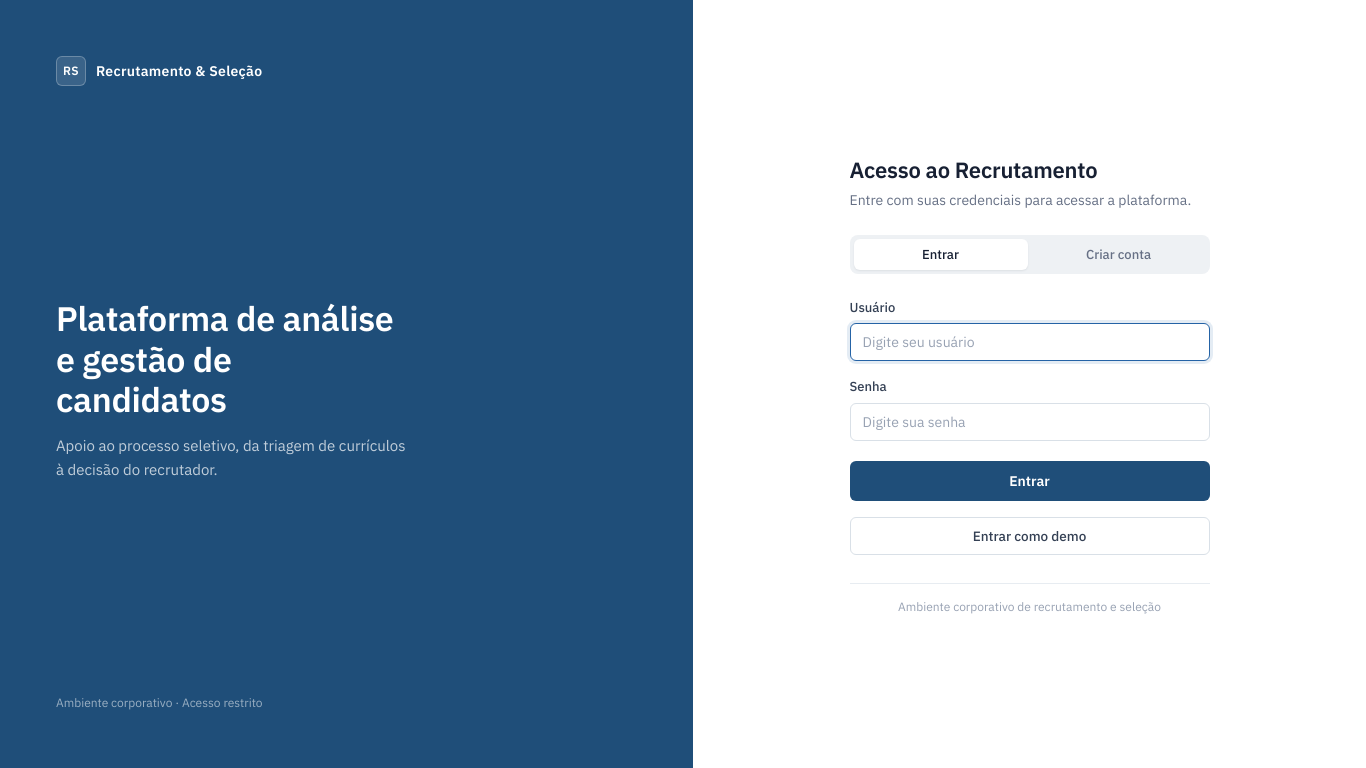
Scenario: App — autenticação por usuário/senha + JWT › mostra a tela de login e envia as credenciais para /api/auth/login
This screenshot has width=1366, height=768.
Check: the password field labelled "Senha" is shown, box [850,402,1210,440]
Type "admin" into the field labelled "Usuário" at (1030, 342), box [850,323,1210,361]
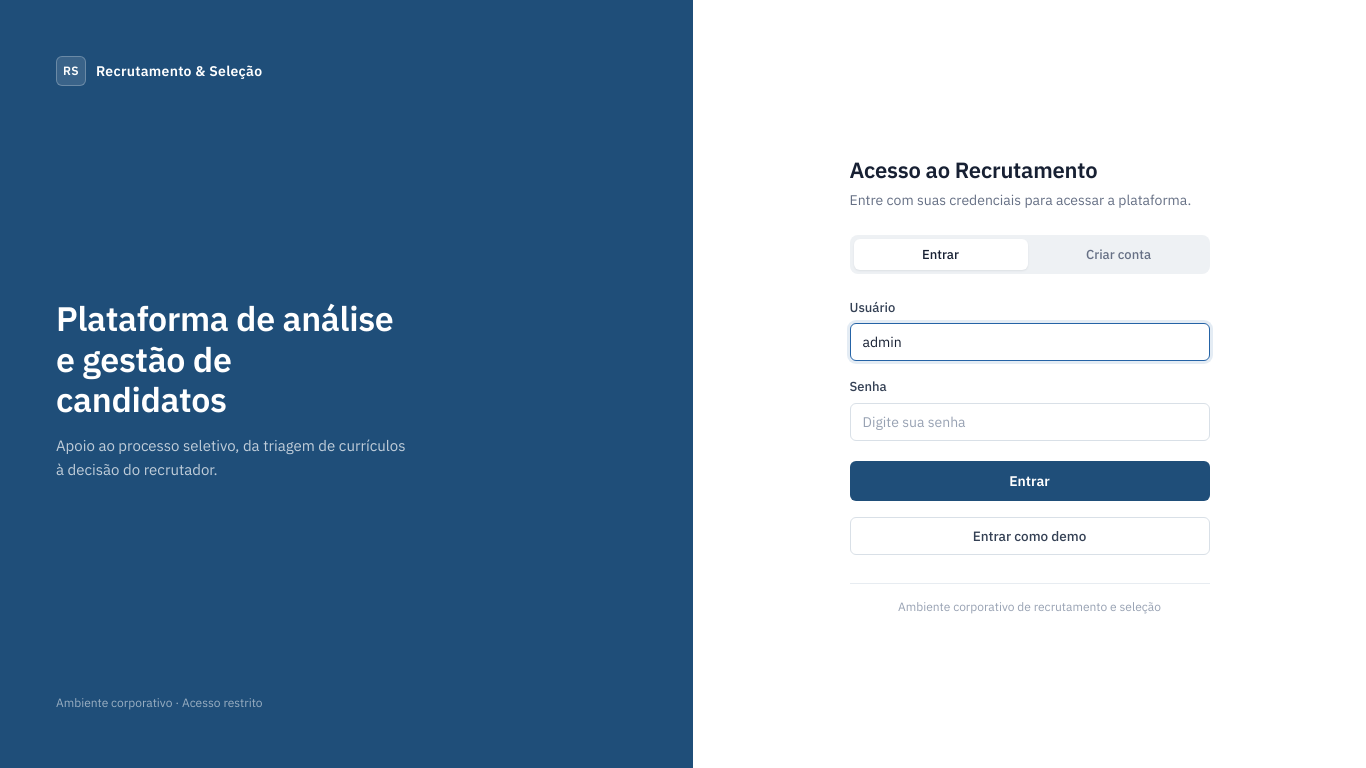
Type "SenhaForte@123" into the password field labelled "Senha" at (1030, 422), box [850,402,1210,440]
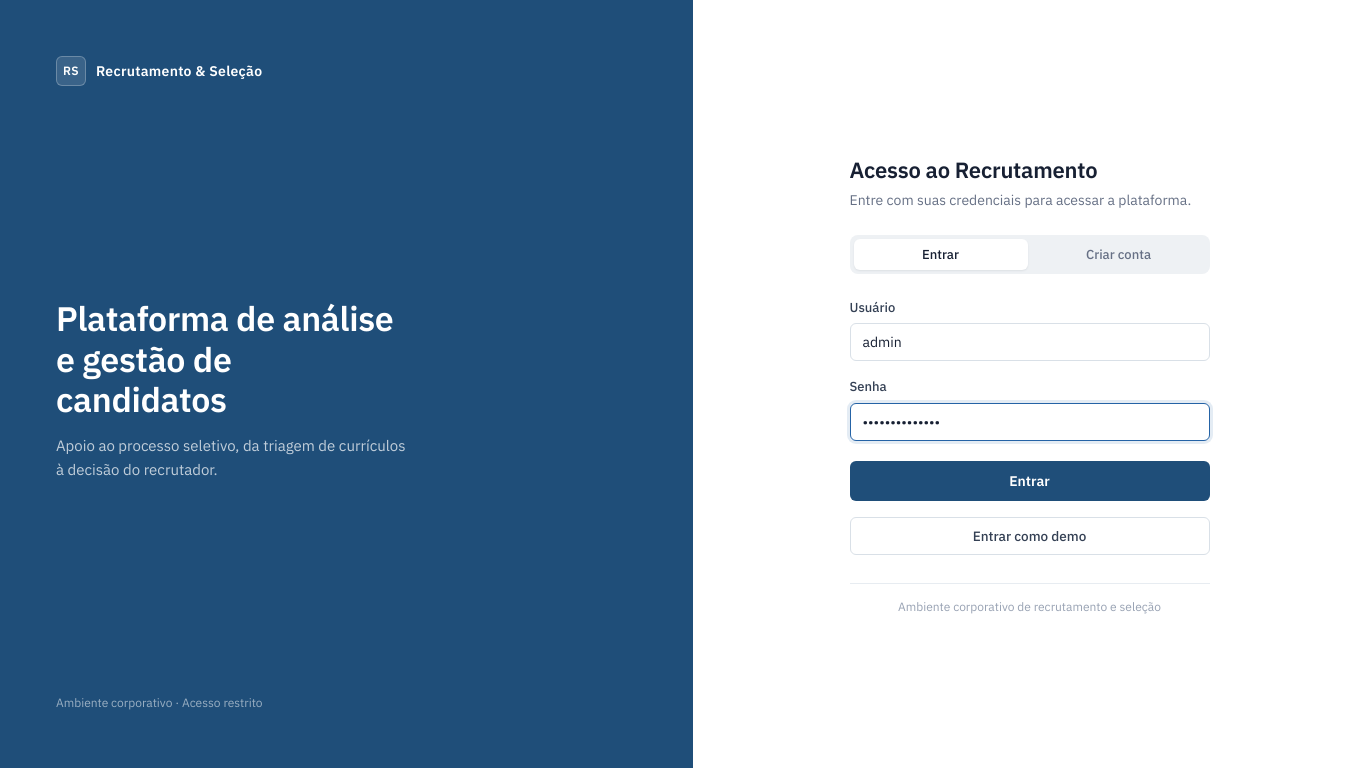
Click the button "Entrar" below "Senha" at (1030, 480), box [850,460,1210,500]
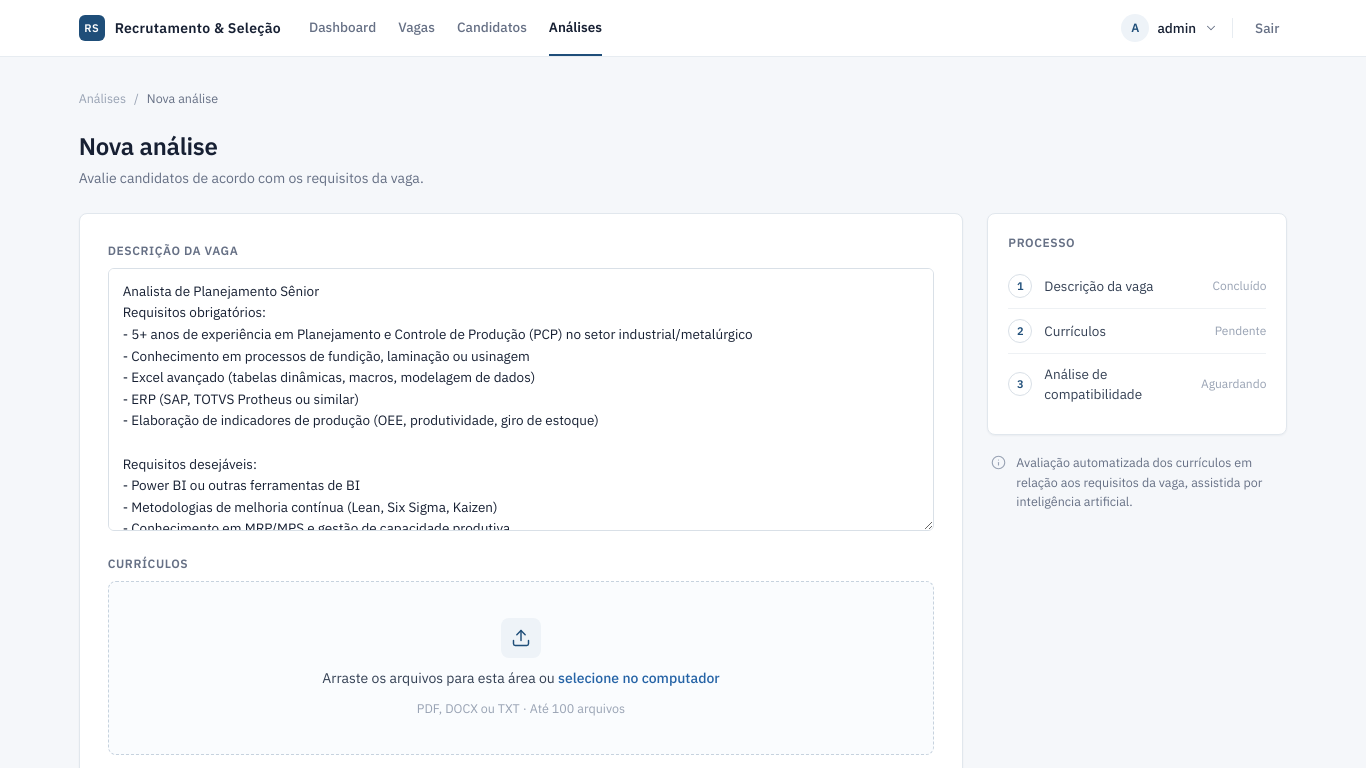
Check: the text "admin" is shown, box [1157,18,1196,38]
